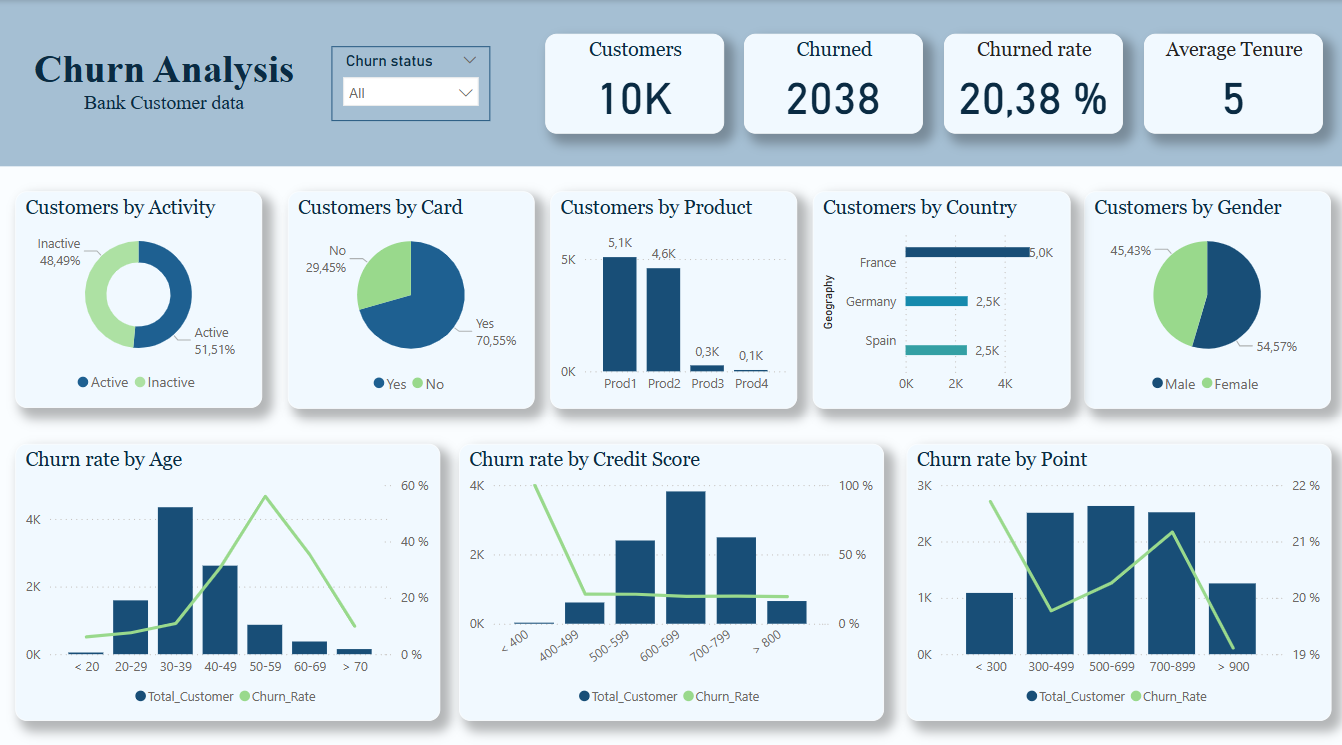

The dashboard page shown, as its layout file describes it:
{"tool":"powerbi","page":{"name":"Page 1","canvas":[1280,720],"ordinal":0},"visuals":[{"type":"textbox","box":[0,0,1279.8,158.5],"z":0},{"type":"pieChart","title":"Customers by Gender","fields":{"Y":["ChurnRecords.Total_Customer"],"Category":["ChurnRecords.Gender"]},"box":[1033.3,182,235.4,206.9],"z":1000},{"type":"card","title":"Customers","fields":{"Values":["ChurnRecords.Total_Customer"]},"box":[520,32.5,170,95.1],"z":2000},{"type":"textbox","box":[15.5,21.4,283.3,94],"z":3000},{"type":"pieChart","title":"Customers by Card","fields":{"Category":["ChurnRecords.HasCrCard"],"Y":["ChurnRecords.Total_Customer"]},"box":[275,182,235.4,206.9],"z":4000},{"type":"clusteredColumnChart","title":"Customers by Product","fields":{"Y":["ChurnRecords.Total_Customer"],"Category":["ChurnRecords.NumOfProducts"]},"box":[525,182,235.4,206.9],"z":5000},{"type":"slicer","title":"Customers by Gender","fields":{"Values":["ChurnRecords.Exited"]},"box":[316.7,44,151.2,71.4],"z":6000},{"type":"clusteredBarChart","title":"Customers by Country","fields":{"Y":["ChurnRecords.Total_Customer"],"Category":["ChurnRecords.Geography"],"Series":["ChurnRecords.Geography"]},"box":[774.6,182,245.7,206.9],"z":7000},{"type":"donutChart","title":"Customers by Activity","fields":{"Y":["ChurnRecords.Total_Customer"],"Category":["ChurnRecords.IsActiveMember"]},"box":[15.5,182,235.4,206],"z":8000},{"type":"lineStackedColumnComboChart","title":"Churn rate by Age","fields":{"Y2":["ChurnRecords.Churn_Rate"],"Category":["Age Group.Age Group"],"Y":["ChurnRecords.Total_Customer"]},"box":[15.5,422.9,404.8,263.8],"z":9000},{"type":"lineStackedColumnComboChart","title":"Churn rate by Credit Score","fields":{"Y2":["ChurnRecords.Churn_Rate"],"Category":["Credit Group.Credit Group"],"Y":["ChurnRecords.Total_Customer"]},"box":[438.4,422.9,404.8,263.8],"z":10000},{"type":"lineStackedColumnComboChart","title":"Churn rate by Point","fields":{"Y2":["ChurnRecords.Churn_Rate"],"Y":["ChurnRecords.Total_Customer"],"Category":["Point Group.Point Group"]},"box":[863.9,422.9,404.8,263.8],"z":11000},{"type":"card","title":"Churned","fields":{"Values":["ChurnRecords.Customers_Churned"]},"box":[710,32.5,170.2,95.1],"z":12000},{"type":"card","title":"Churned rate","fields":{"Values":["ChurnRecords.Churn_Rate"]},"box":[900,32.5,170,95.1],"z":13000},{"type":"card","title":"Average Tenure","fields":{"Values":["ChurnRecords.Avg_Tenure"]},"box":[1090,32.5,170.2,95.1],"z":14000}]}

Visuals, with their boxes in screenshot pixels (x1, y1, x2, y2), scaled from the page's 1280x720 canvas onto the 1342x745 screenshot:
textbox: detection(0, 0, 1341, 164)
"Customers by Gender" pieChart: detection(1083, 188, 1330, 402)
"Customers" card: detection(545, 34, 723, 132)
textbox: detection(16, 22, 313, 119)
"Customers by Card" pieChart: detection(288, 188, 535, 402)
"Customers by Product" clusteredColumnChart: detection(550, 188, 797, 402)
"Customers by Gender" slicer: detection(332, 46, 491, 119)
"Customers by Country" clusteredBarChart: detection(812, 188, 1070, 402)
"Customers by Activity" donutChart: detection(16, 188, 263, 401)
"Churn rate by Age" lineStackedColumnComboChart: detection(16, 438, 441, 711)
"Churn rate by Credit Score" lineStackedColumnComboChart: detection(460, 438, 884, 711)
"Churn rate by Point" lineStackedColumnComboChart: detection(906, 438, 1330, 711)
"Churned" card: detection(744, 34, 923, 132)
"Churned rate" card: detection(944, 34, 1122, 132)
"Average Tenure" card: detection(1143, 34, 1321, 132)
